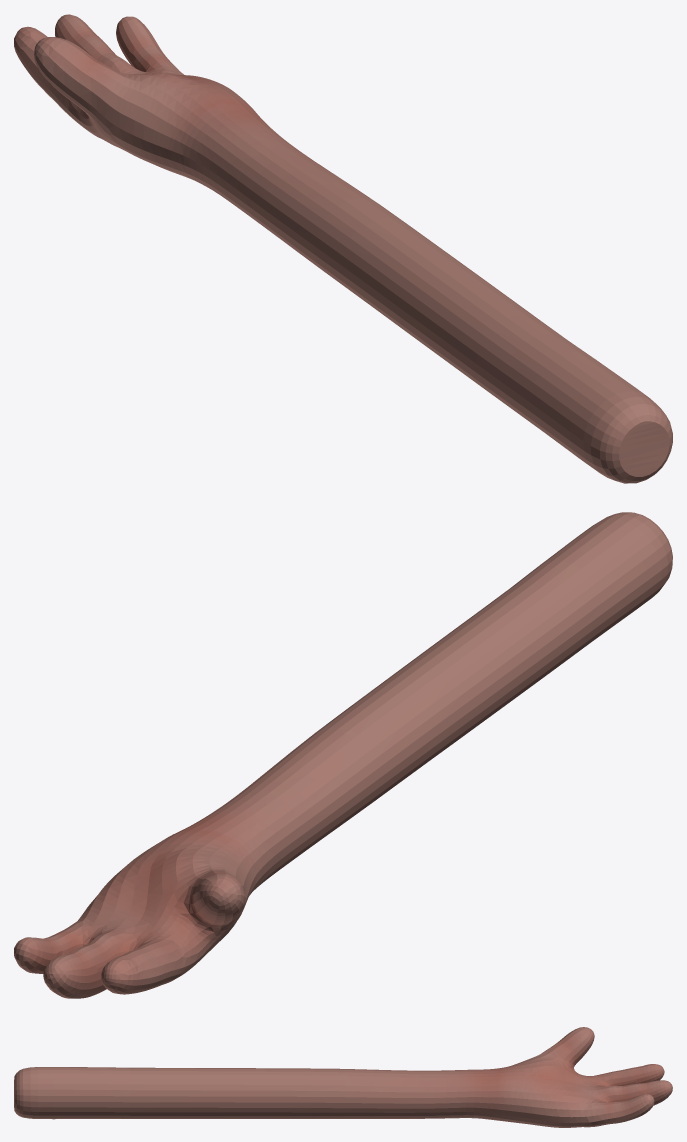
File: arm.obj
3 renders of one model, top to bottom at view 1: azimuth 30°, elevation 25°; view 2: azimuth 150°, elevation 25°; view 3: azimuth 270°, elevation 25°, orthographic. The views are drawn at different scales.
Visible parts, largest first — view 1: Object.1; view 2: Object.1; view 3: Object.1.
Part boxes in pixels (x1=…): Object.1: x1=14, y1=14, x2=672, y2=483; Object.1: x1=14, y1=512, x2=672, y2=998; Object.1: x1=14, y1=1027, x2=672, y2=1127.
Size of the model in its own units: 25.21 by 17.58 by 153.
1 material, 1 textured.
